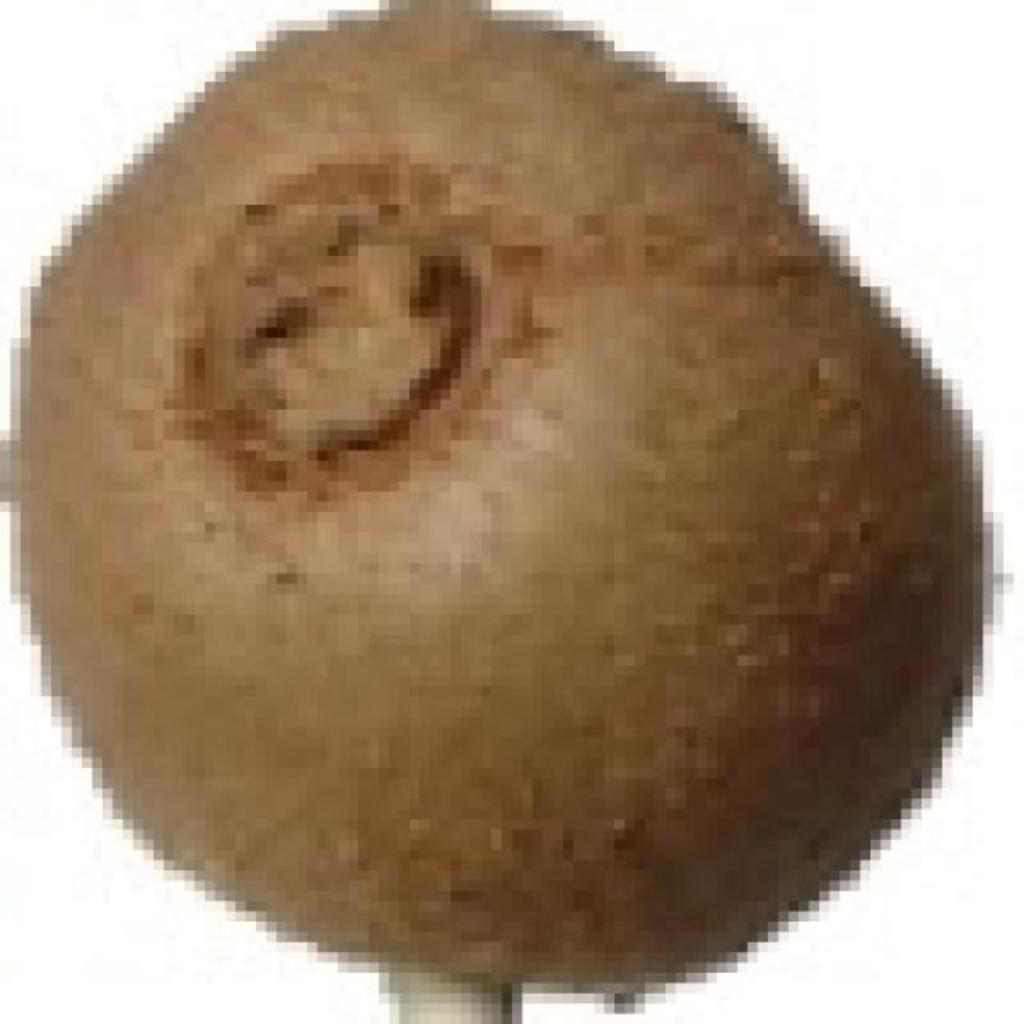kiwi: (27, 18, 985, 1017)
